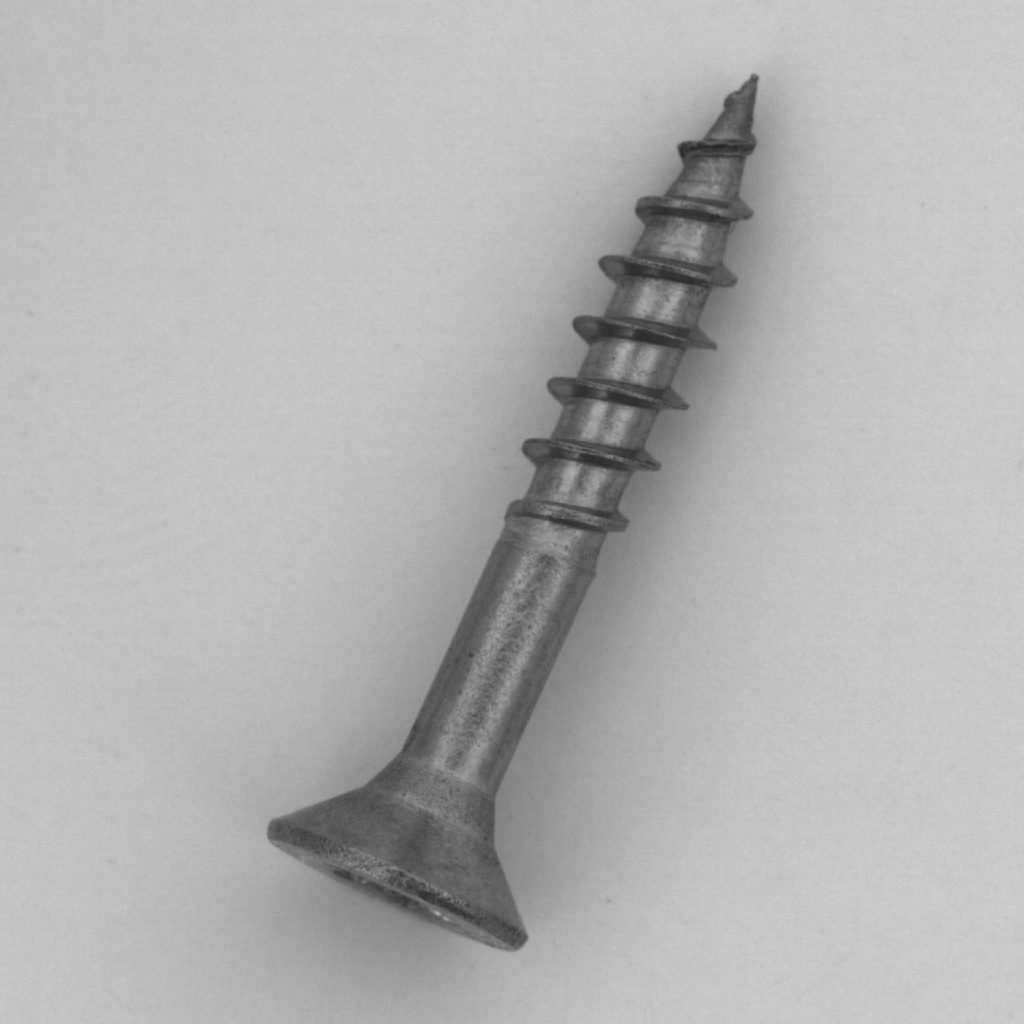good: (256, 56, 809, 973)
